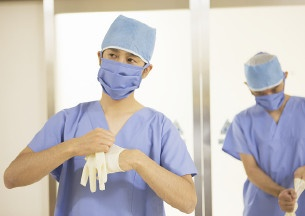Mask: (98, 46, 151, 99)
